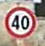limite 40: (4, 5, 36, 38)
